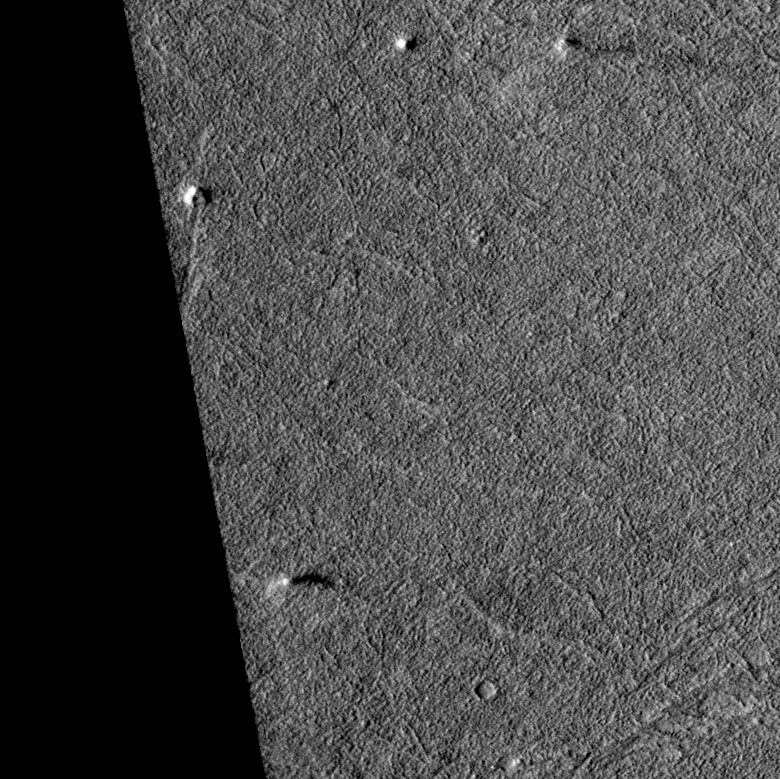dust_devil: (264, 570, 337, 598)
